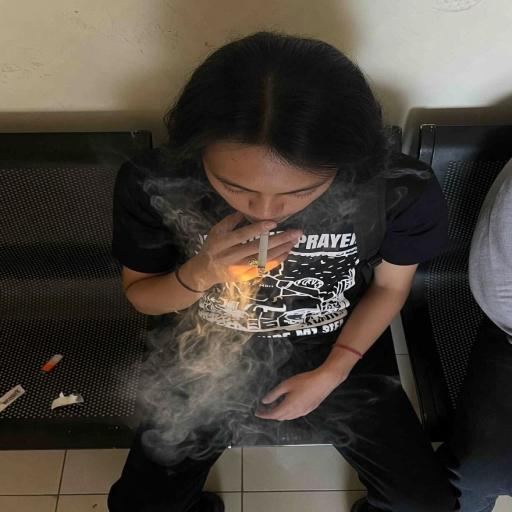asap rokok: (178, 252, 298, 390)
merokok: (210, 188, 309, 304)
